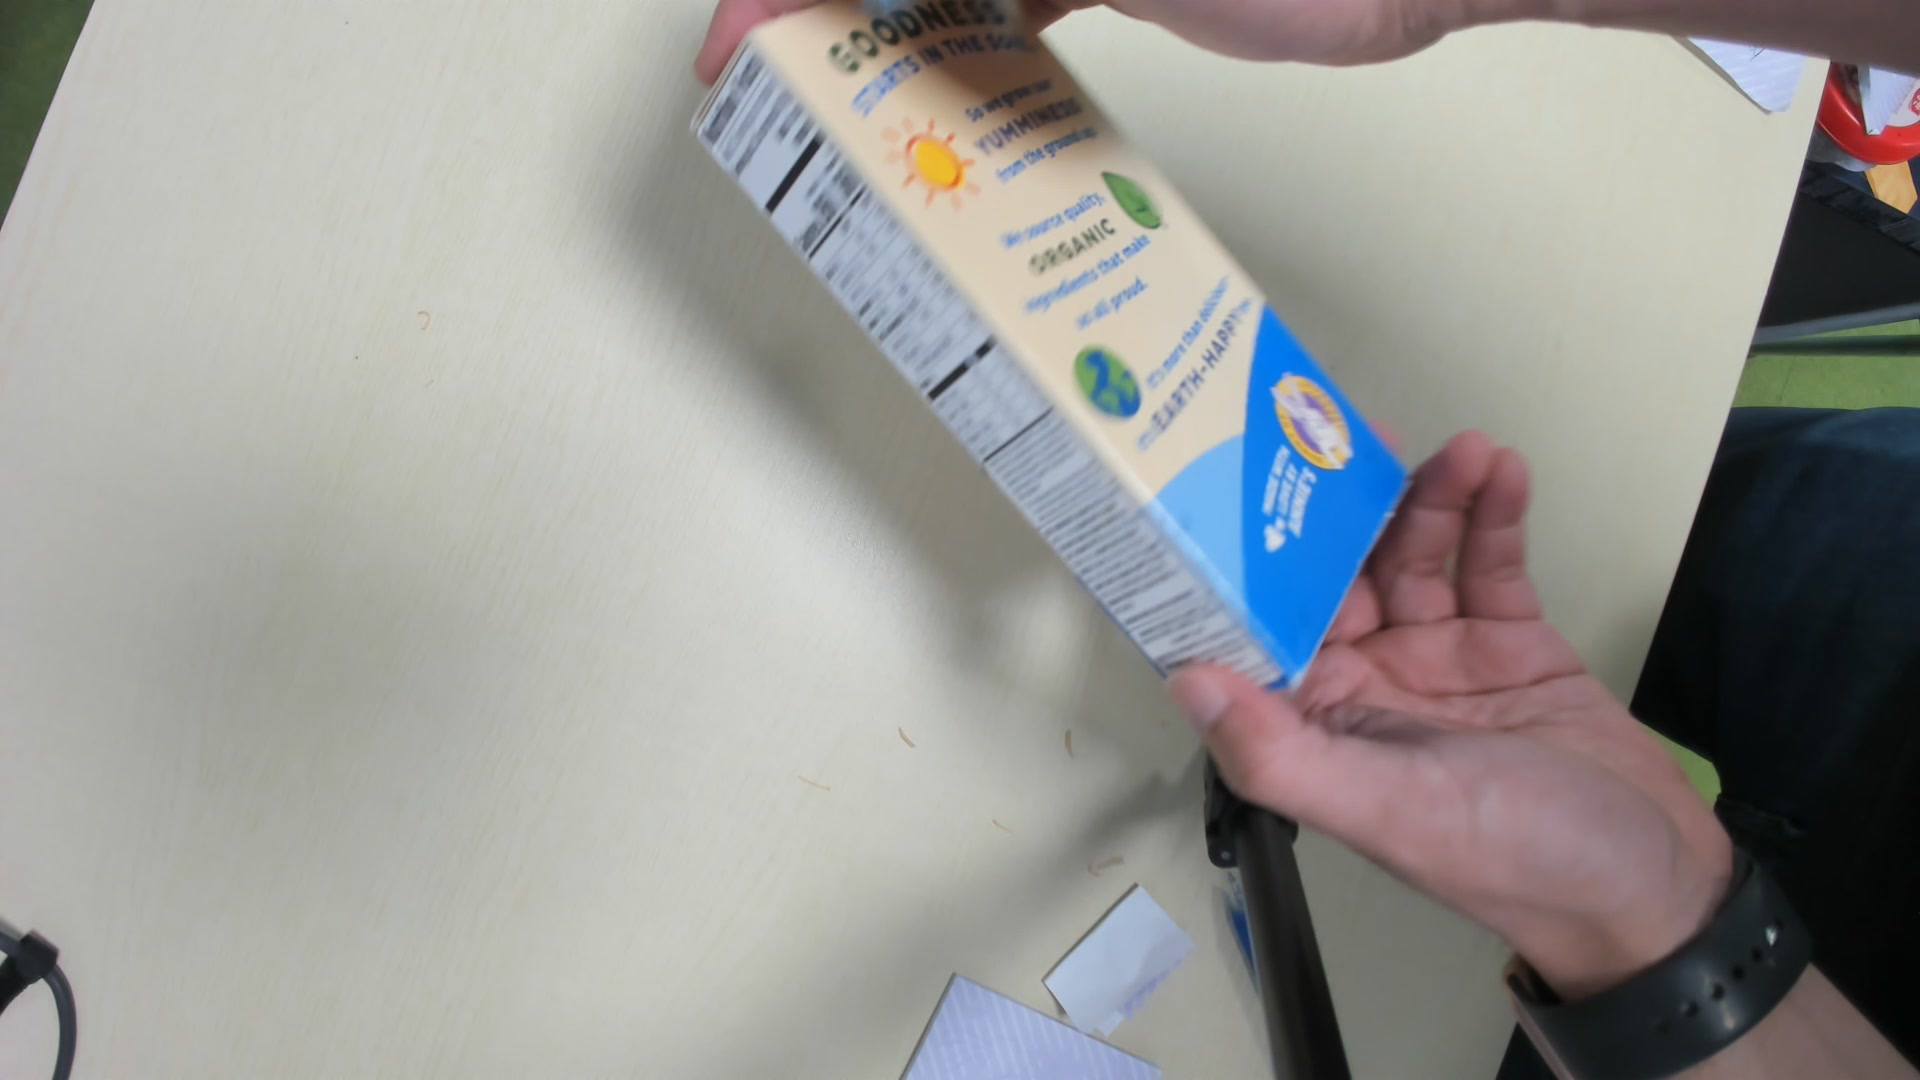InstantMeals_100_199g_NonHalal_NonHealthy: (684, 7, 1418, 695)
